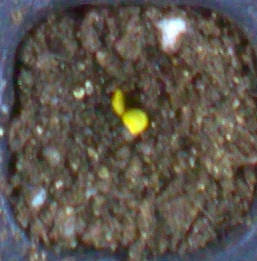pepper seed: (47, 40, 196, 176), (49, 29, 175, 147)
